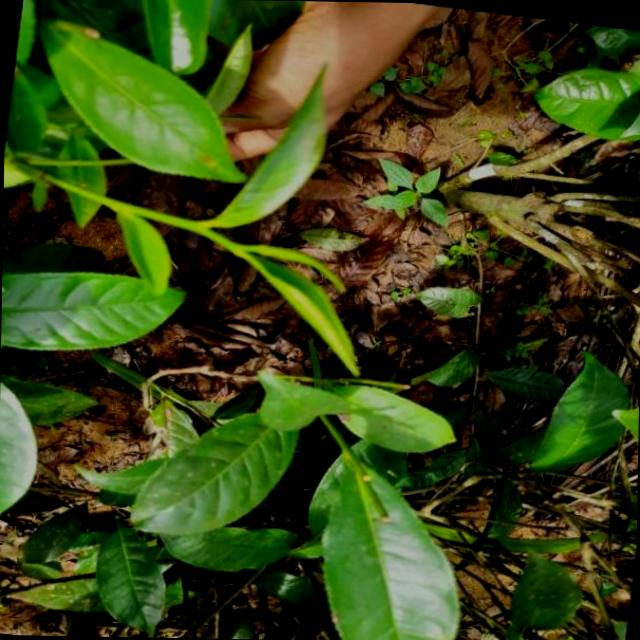Stem: (178, 219, 192, 226)
